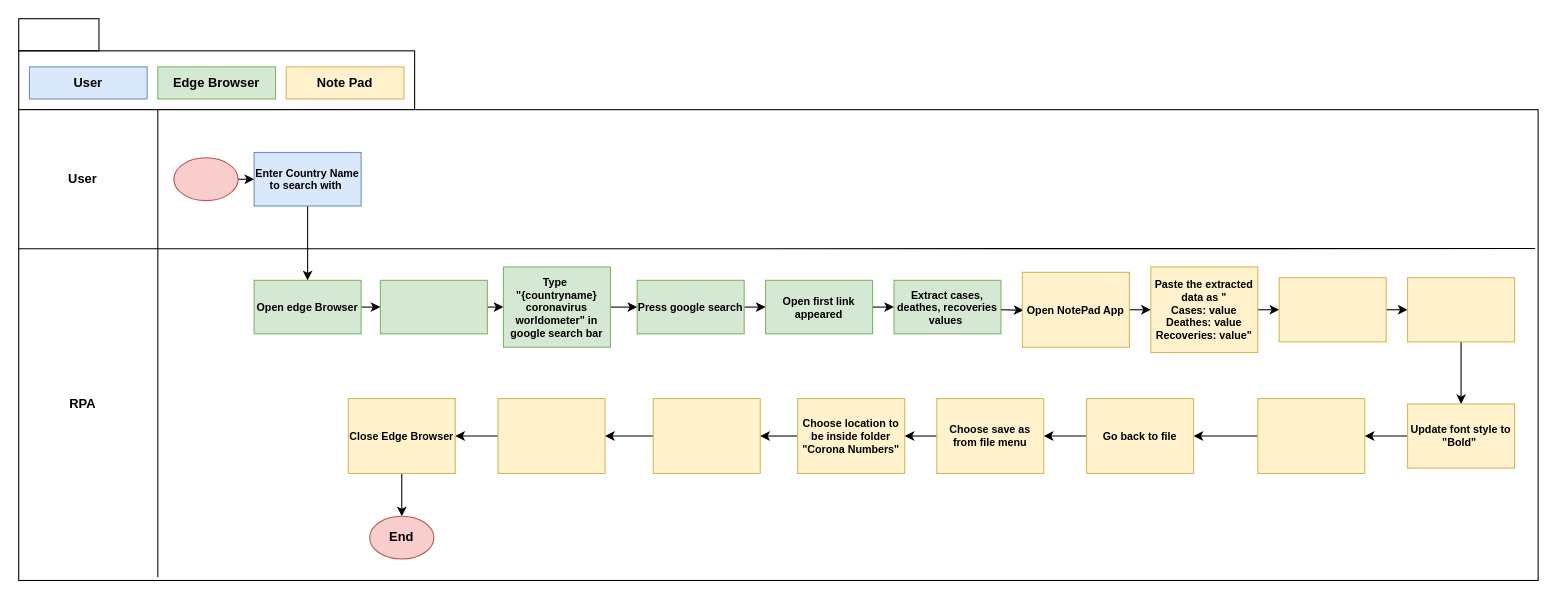
This 1557x599 diagram has some shape labels left out. Each missing label, with the centre of its shape:
Change file name to "{countryname}-date.now} and click save: point (706, 435)
Choose edit then font from menu: point (1332, 309)
Close Note Pad app: point (551, 435)
Color Map: point (58, 34)
Start: point (205, 179)
Type "www.google.com" in search bar and press enter: point (433, 306)
Update font size to "28": point (1311, 435)
Update font type to "fixedsys": point (1461, 309)
